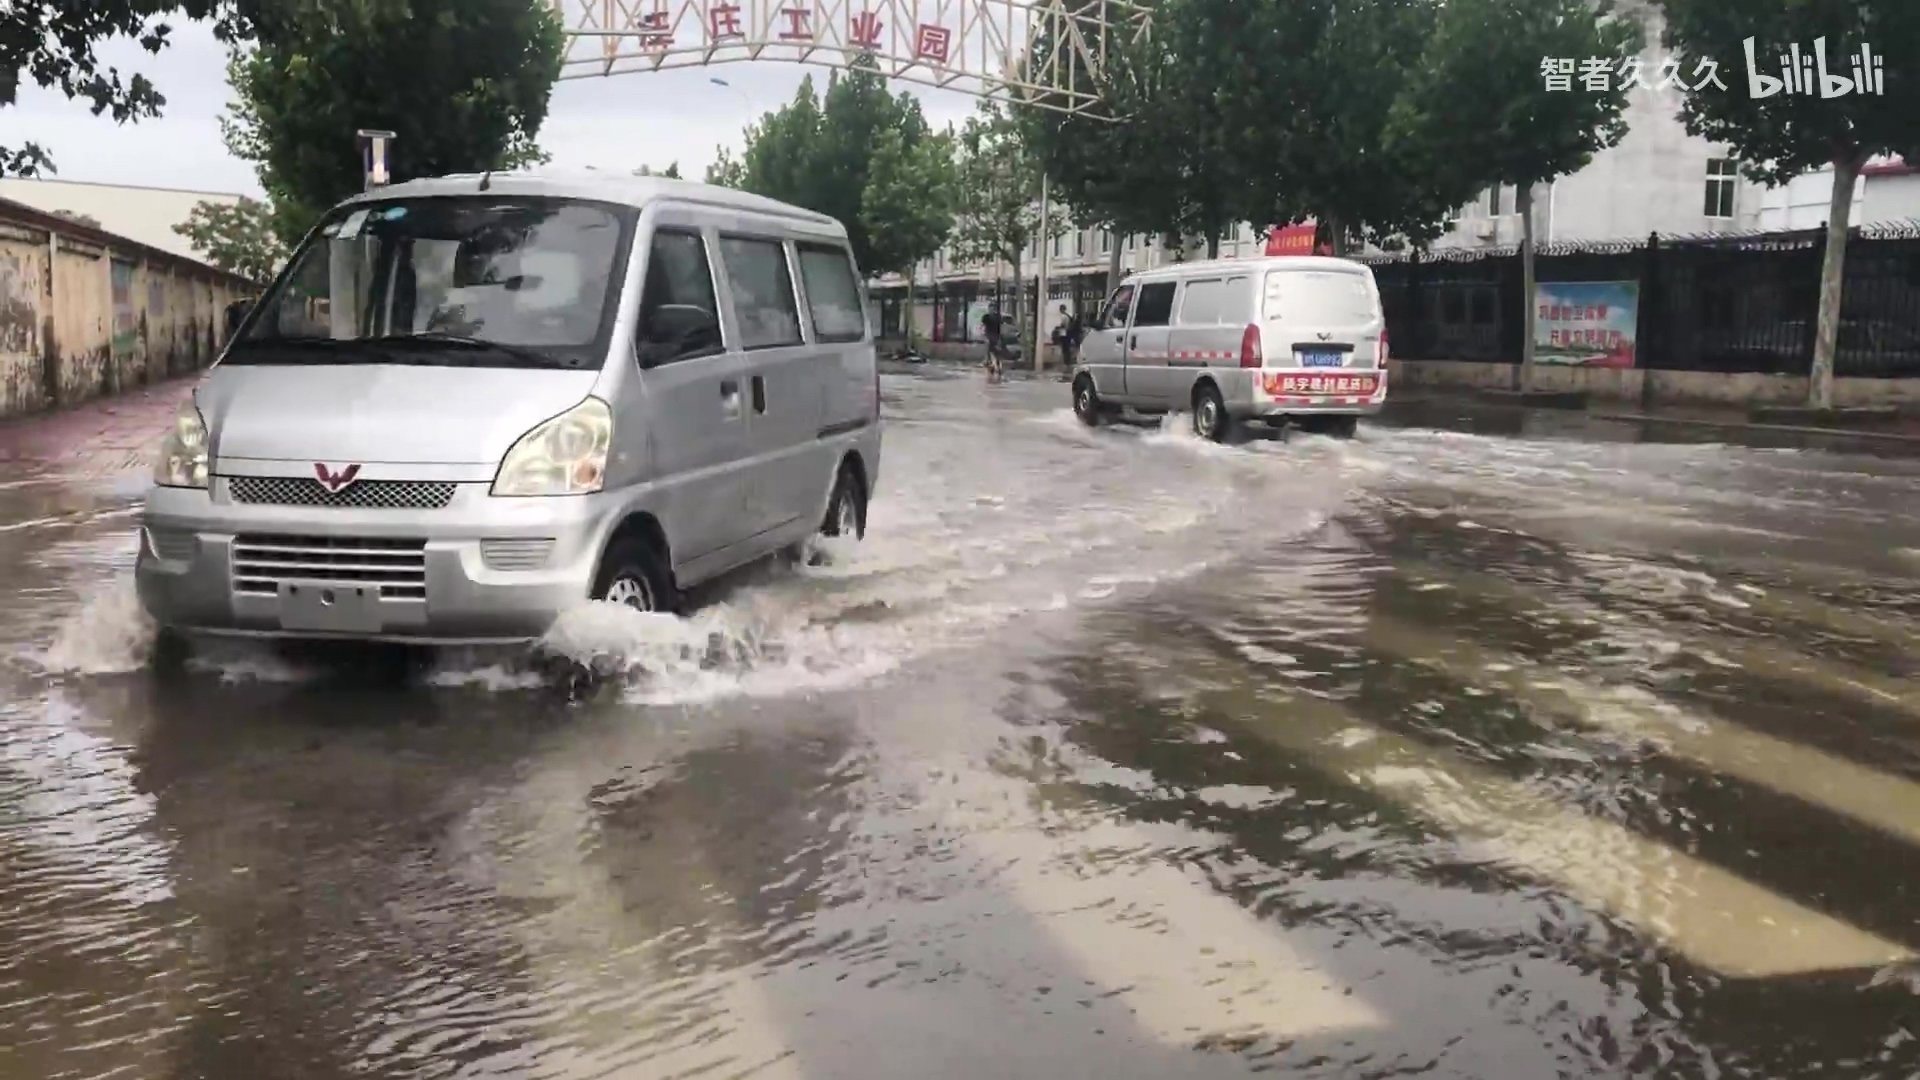puddle: (1, 616, 1920, 1080), (828, 386, 1920, 1080)
